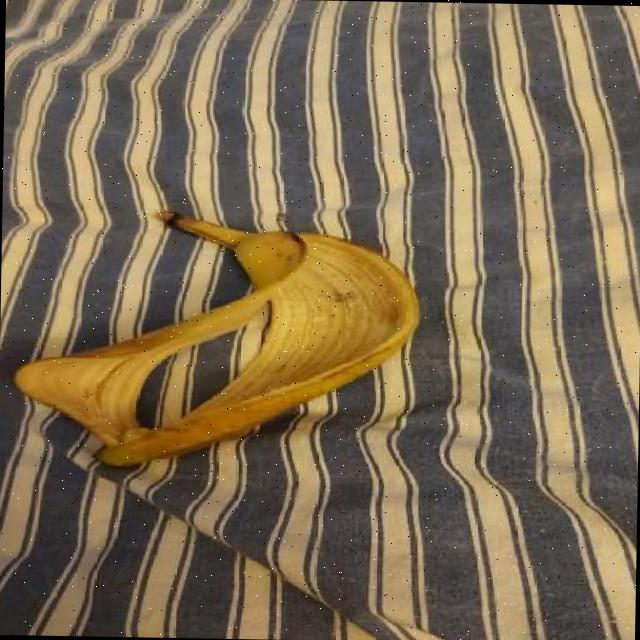banana-peel: (10, 203, 422, 472)
